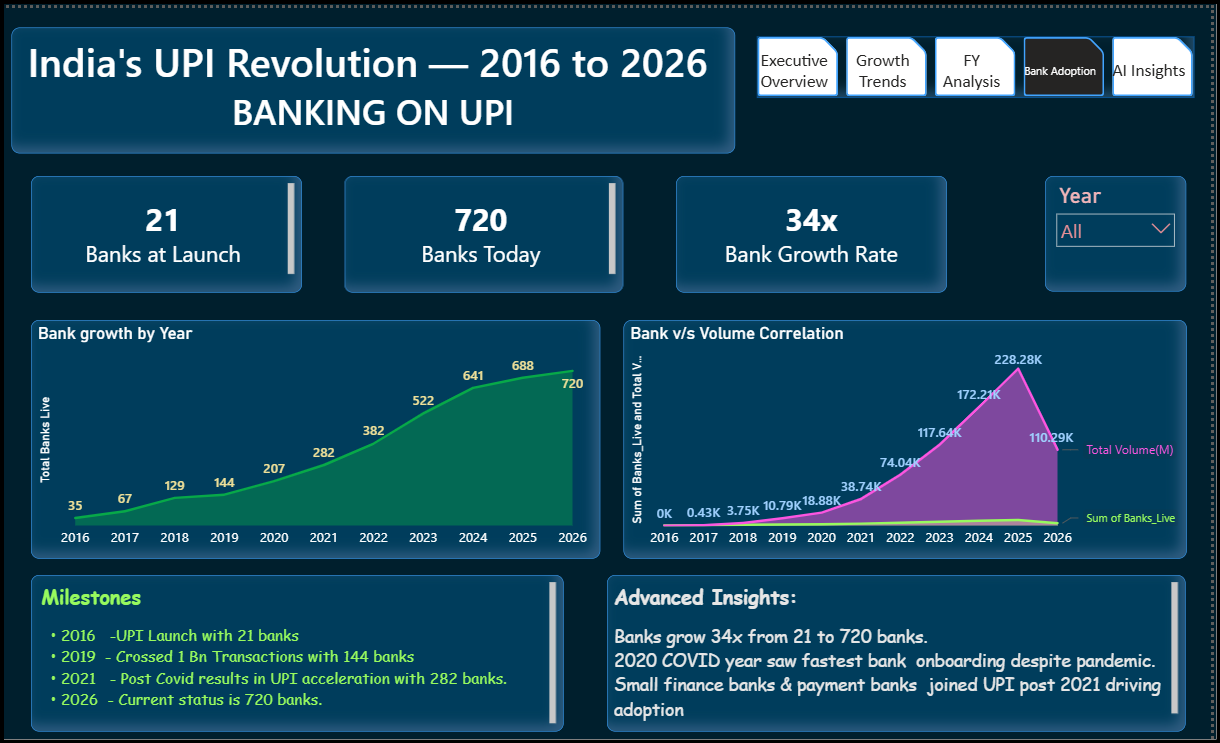

The page's visual inventory and layout, read from the dashboard file:
{"tool":"powerbi","page":{"name":"Bank Adoption","canvas":[1470,900],"ordinal":3},"visuals":[{"type":"textbox","box":[9.3,23.3,881.5,153.5],"z":0},{"type":"lineChart","title":"Bank growth  by Year","fields":{"Category":["upi_transactions.Year"],"Y":["-Measures.Total Banks Live"]},"box":[32.6,379.1,693.1,290.7],"z":1000},{"type":"textbox","box":[32.6,204.7,330.3,141.9],"z":2000},{"type":"textbox","box":[414,204.7,339.6,141.9],"z":3000},{"type":"textbox","box":[818.7,204.7,330.3,141.9],"z":4000},{"type":"areaChart","title":"Bank v/s Volume Correlation","fields":{"Category":["upi_transactions.Year"],"Y":["Sum(upi_transactions.Banks_Live)","-Measures.Total Volume"]},"box":[753.6,379.1,686.2,290.7],"z":5000},{"type":"textbox","box":[32.6,690.8,648.9,190.7],"z":6000},{"type":"textbox","box":[735,690.8,704.8,190.7],"z":7000},{"type":"pageNavigator","box":[916.4,34.9,532.6,74.4],"z":8000},{"type":"slicer","fields":{"Values":["upi_transactions.Year"]},"box":[1267.2,205.2,171.8,140.8],"z":8001}]}

Visuals, with their boxes in screenshot pixels (x1, y1, x2, y2), scaled from the page's 1470x900 canvas onto the 1220x743 screenshot:
textbox: 8/19/739/146
"Bank growth  by Year" lineChart: 27/313/602/553
textbox: 27/169/301/286
textbox: 344/169/625/286
textbox: 679/169/954/286
"Bank v/s Volume Correlation" areaChart: 625/313/1195/553
textbox: 27/570/566/728
textbox: 610/570/1195/728
pageNavigator: 761/29/1203/90
slicer - upi_transactions.Year: 1052/169/1194/286
